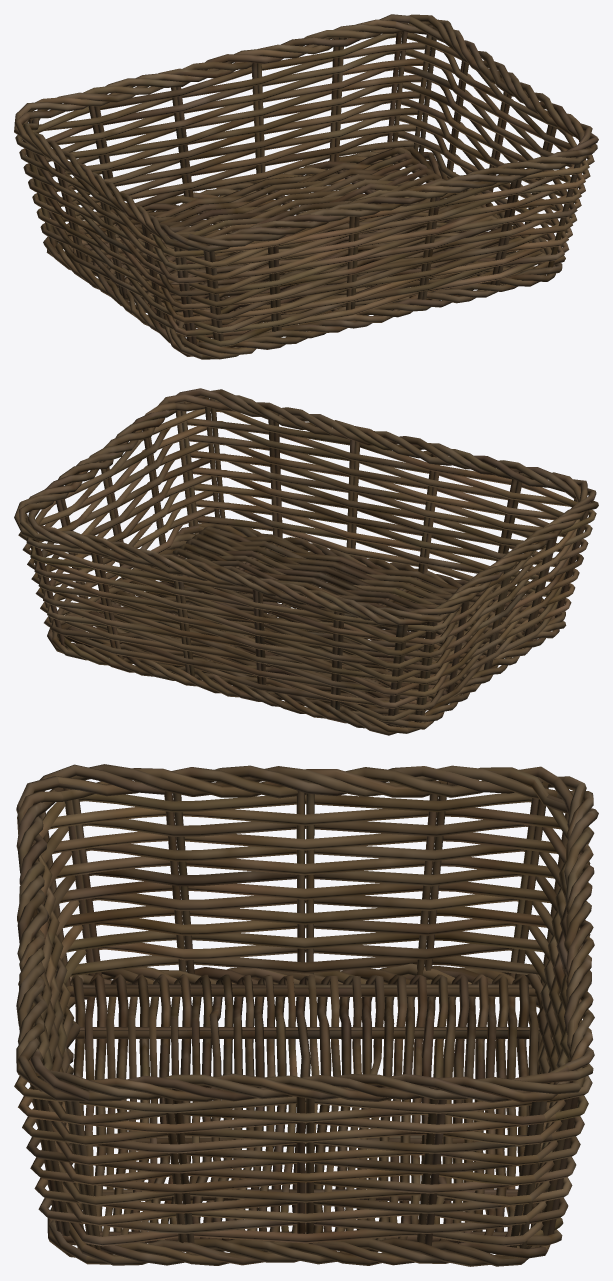
File: wicker_basket_01.glb
3 views of the same model, one above another, from view 1: azimuth 30°, elevation 25°; view 2: azimuth 150°, elevation 25°; view 3: azimuth 270°, elevation 25° (orthographic). The views are drawn at different scales.
Parts seen in each view (by area): view 1: wicker_basket_01; view 2: wicker_basket_01; view 3: wicker_basket_01.
Part boxes in pixels (x1=…): wicker_basket_01: x1=14, y1=14, x2=598, y2=359; wicker_basket_01: x1=14, y1=388, x2=598, y2=735; wicker_basket_01: x1=14, y1=764, x2=598, y2=1266.
Bounding box in the file's own units: 0.3832 × 0.1174 × 0.295.
Materials: 1 (1 with a texture image).
